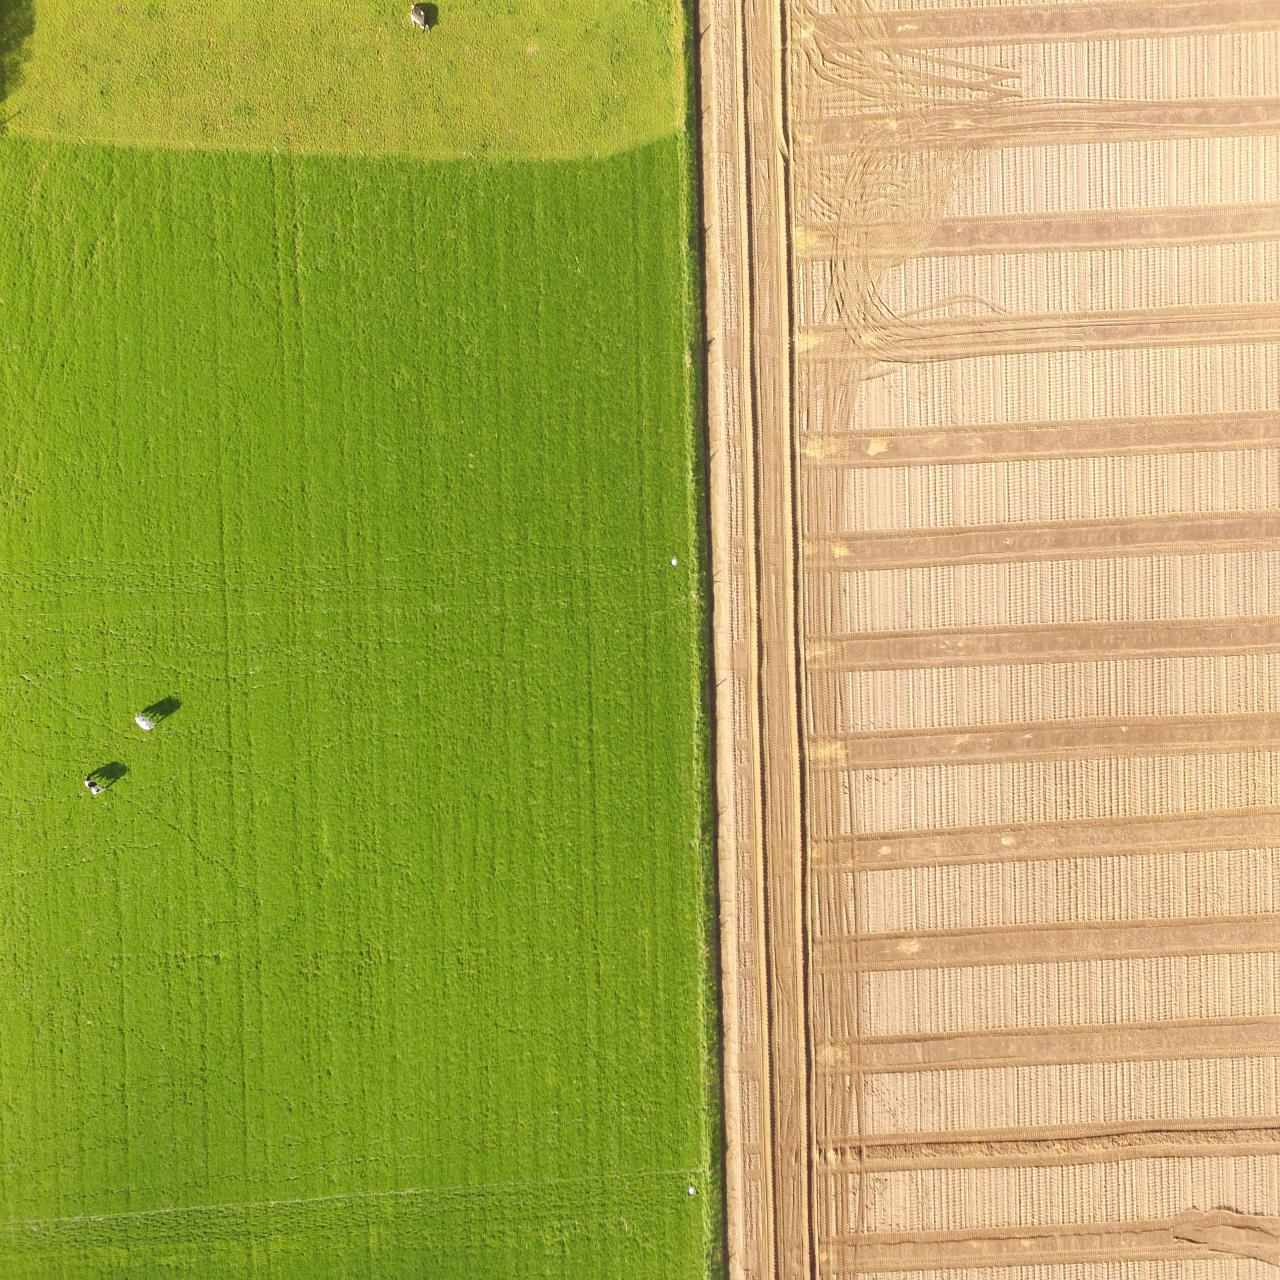cow: (409, 4, 430, 34), (83, 775, 109, 796), (134, 710, 157, 731)
